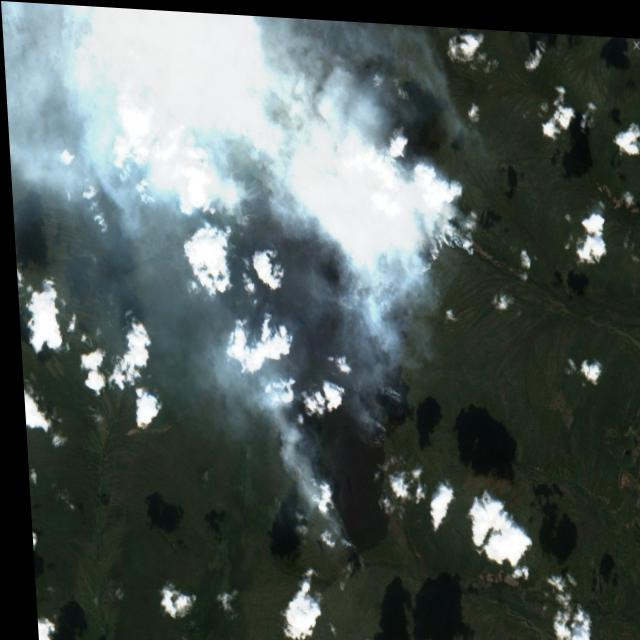fire: (267, 426, 366, 570), (173, 149, 276, 245), (394, 197, 478, 281), (346, 357, 407, 441)
